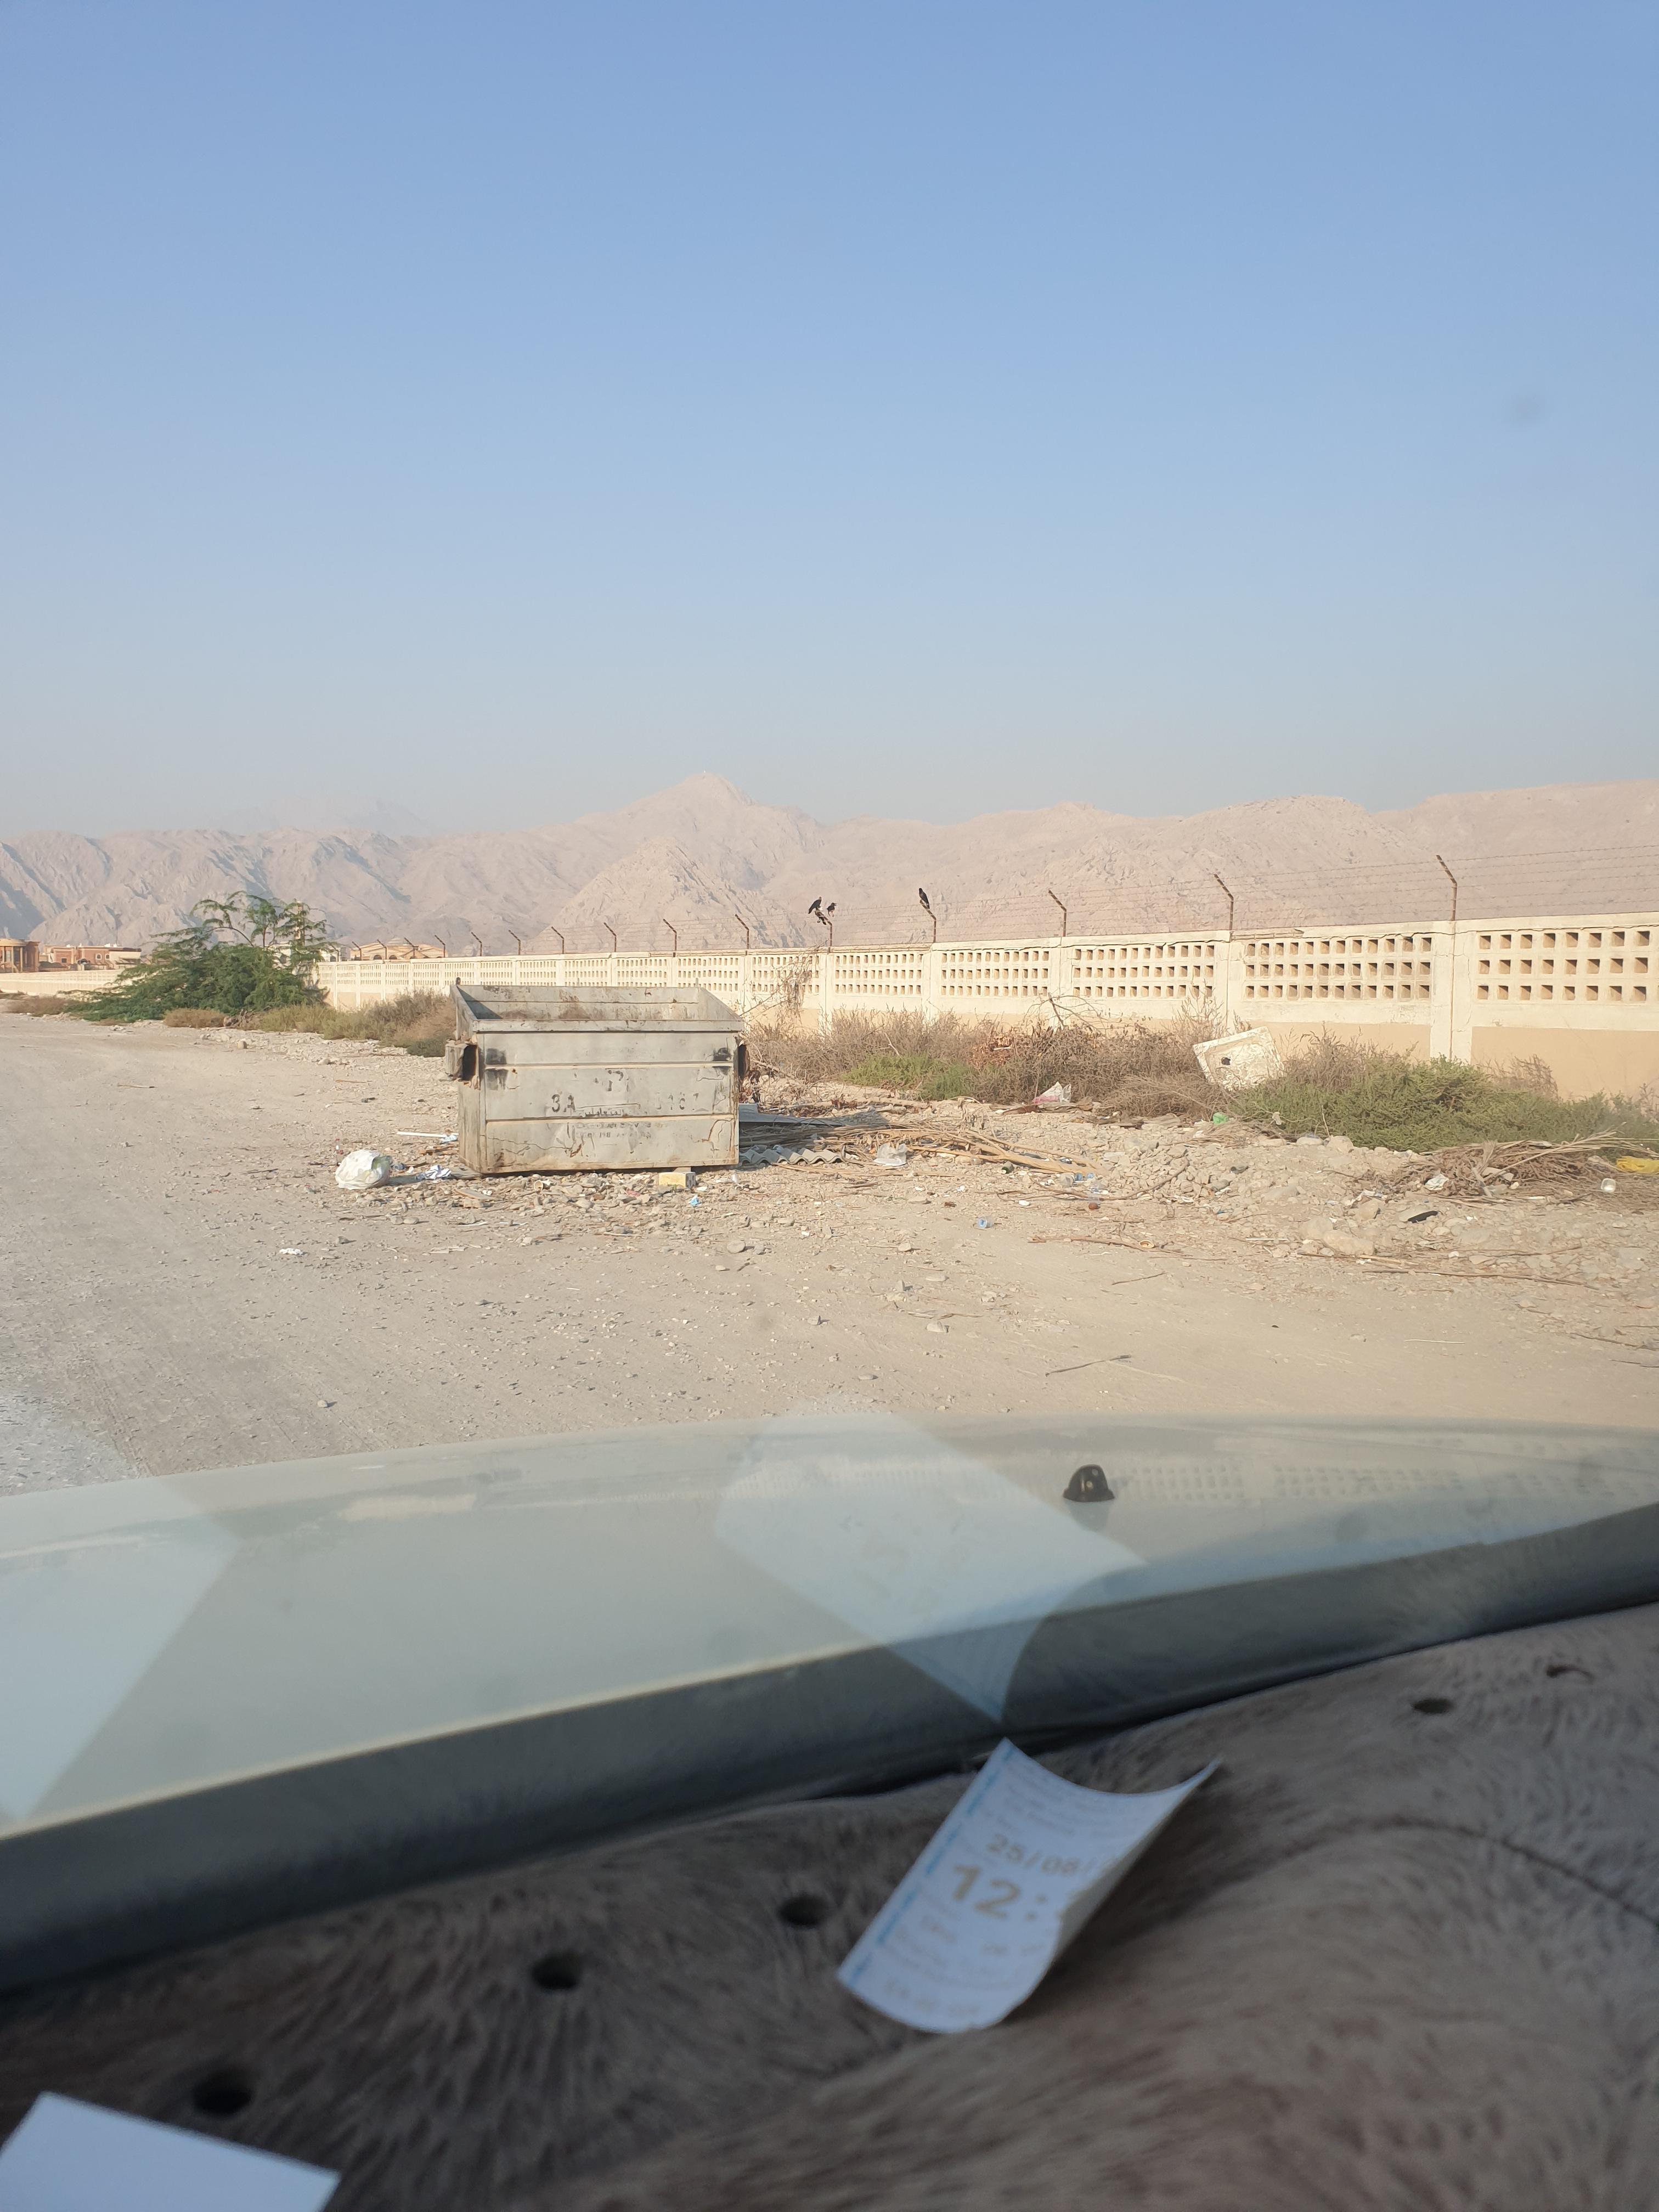fallen_trees: (861, 1108, 1108, 1186), (1406, 1139, 1645, 1217), (1354, 1235, 1608, 1291), (1448, 1165, 1605, 1228), (1035, 1217, 1180, 1259)
